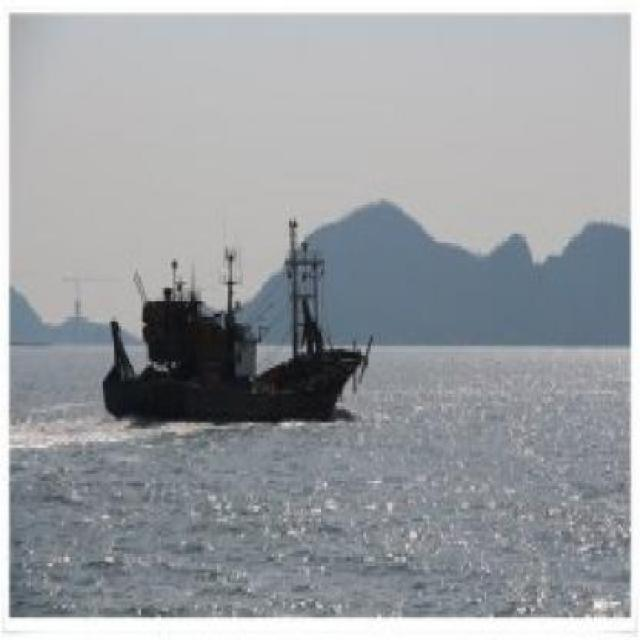fish-b: (96, 206, 380, 433)
